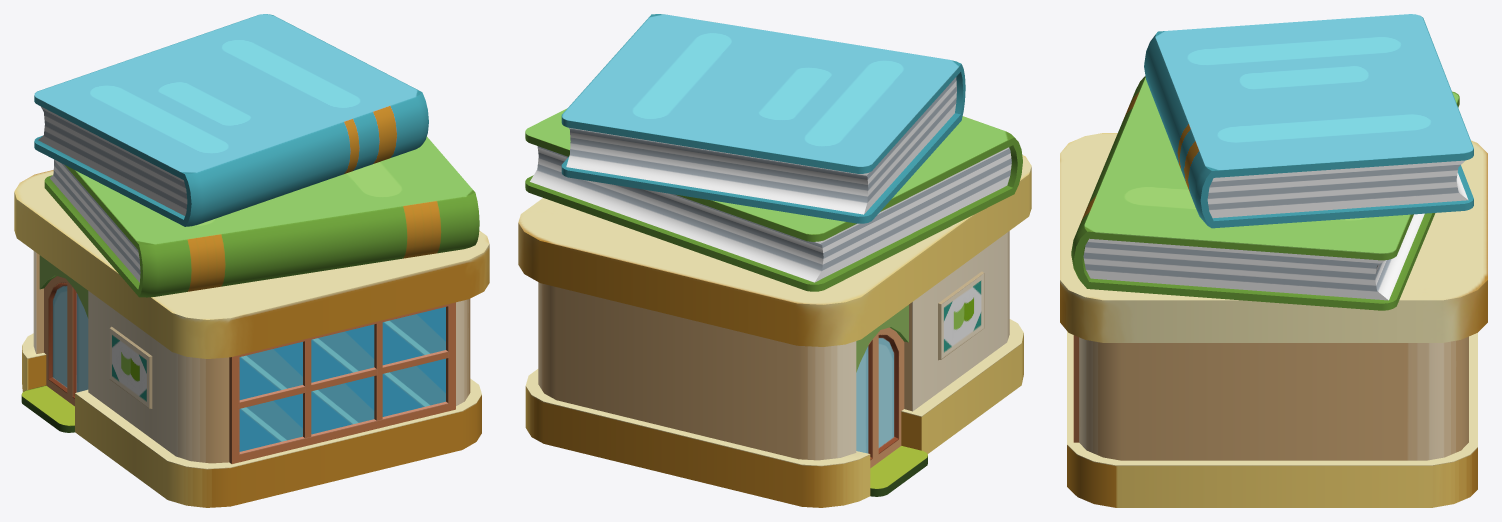
The model's file is structure05.FBX.
The picture shows the model from 3 angles, left to right: view 1: azimuth 30°, elevation 25°; view 2: azimuth 150°, elevation 25°; view 3: azimuth 270°, elevation 25°; orthographic projection. The views are drawn at different scales.
Parts seen in each view (by area): view 1: structure05; view 2: structure05; view 3: structure05.
Boxes of the visible parts, box(x1,y1,x2,y2) form: structure05: box(14, 14, 489, 507); structure05: box(518, 14, 1031, 507); structure05: box(1060, 14, 1487, 507).
Bounding box in the file's own units: 23.22 × 19.28 × 22.65.
Materials: 1 (1 with a texture image).
